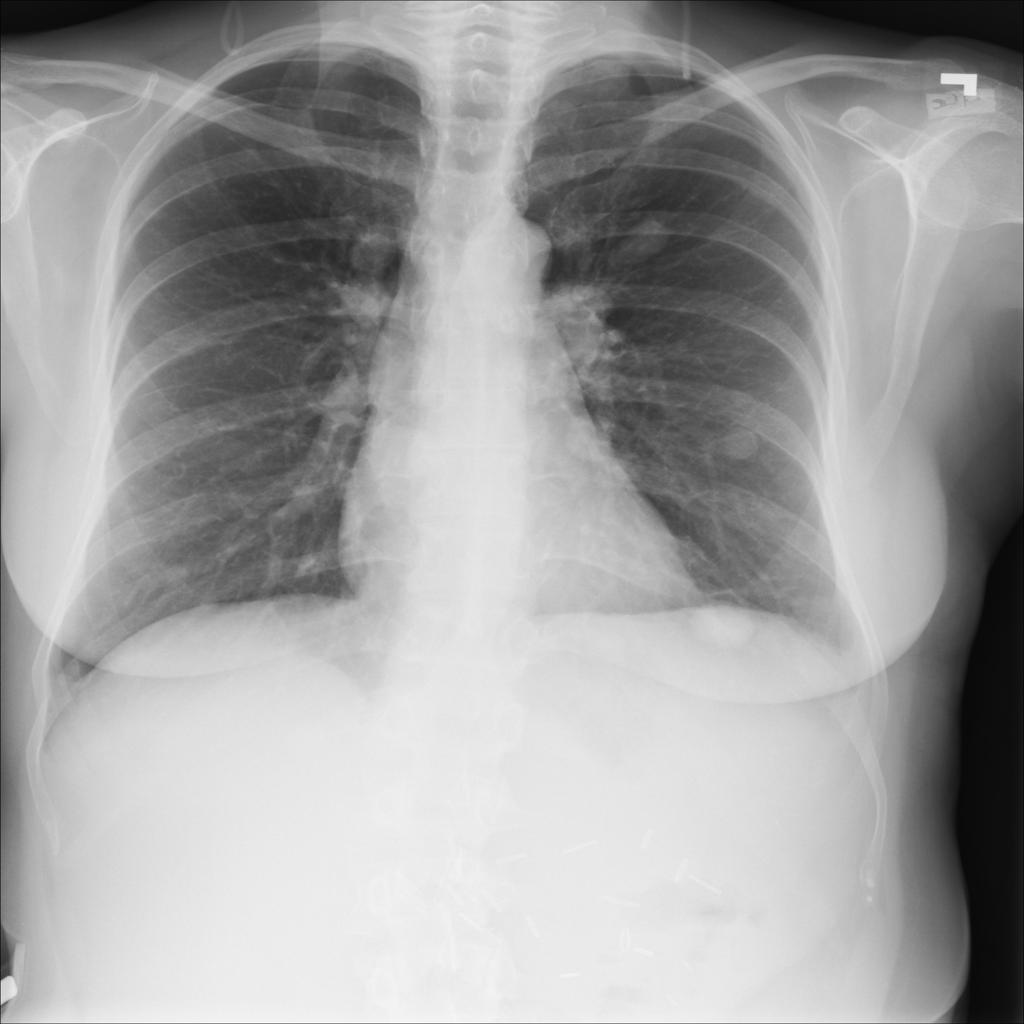nodule: (679, 589, 770, 658), (704, 404, 780, 472), (607, 205, 686, 270), (336, 216, 408, 287), (553, 404, 622, 476)
